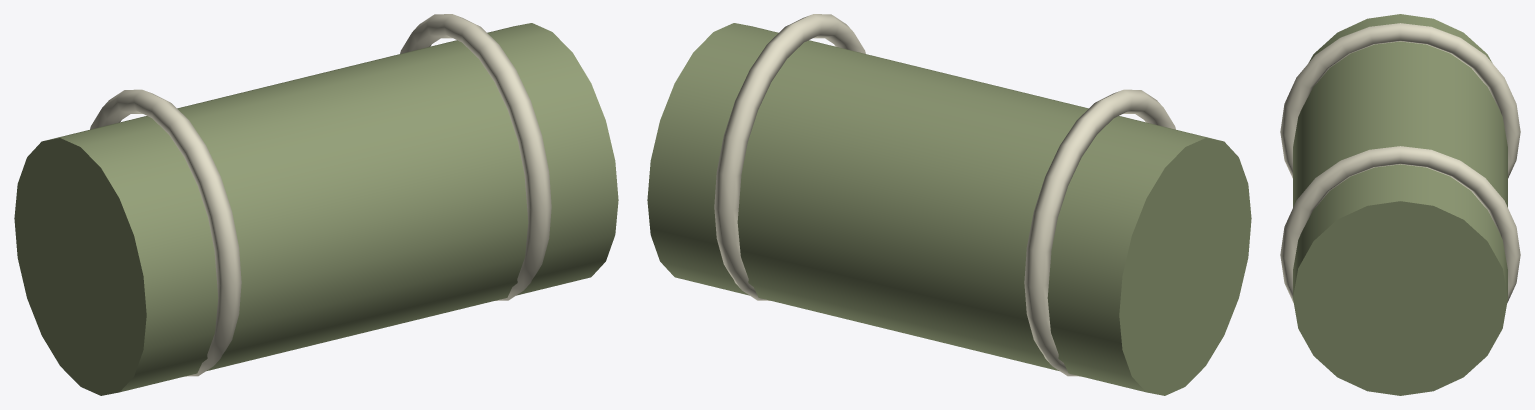
Rendered from wilderness-survival-camp-rolled-sleeping-mat-5532e986__21943.glb.
3 views of the same model, side by side, from view 1: azimuth 30°, elevation 25°; view 2: azimuth 150°, elevation 25°; view 3: azimuth 270°, elevation 25° (orthographic). The views are drawn at different scales.
Visible parts, largest first — view 1: rolled-sleeping-mat; view 2: rolled-sleeping-mat; view 3: rolled-sleeping-mat.
Part boxes in pixels (left/top/right/bottom): rolled-sleeping-mat: left=14, top=14, right=618, bottom=395; rolled-sleeping-mat: left=647, top=14, right=1251, bottom=395; rolled-sleeping-mat: left=1280, top=14, right=1520, bottom=395.
Size of the model in its own units: 0.7 by 0.38 by 0.38.
